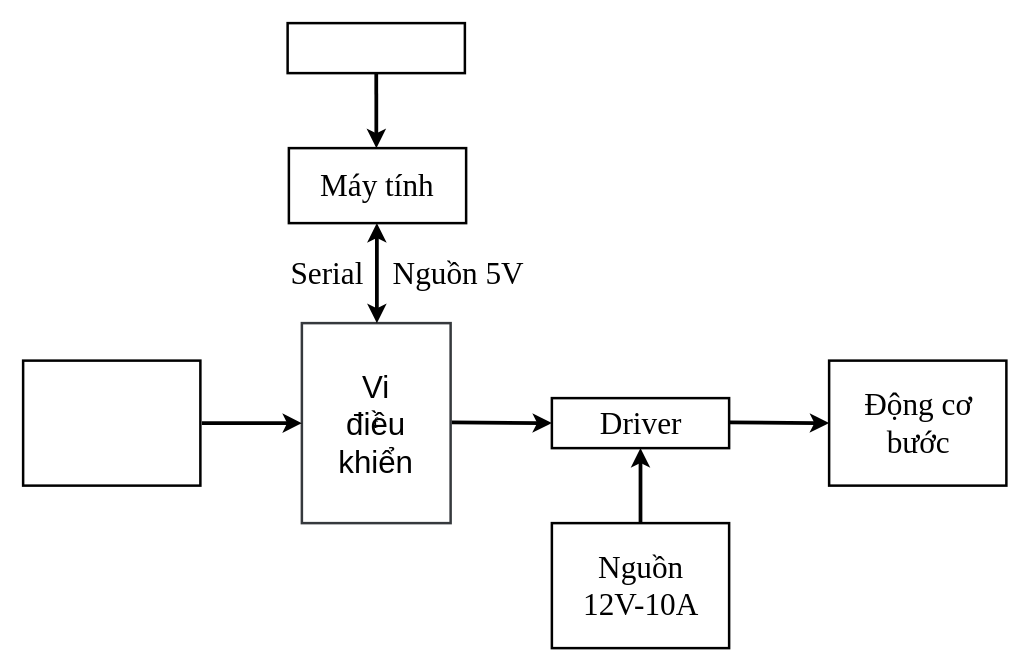
The diagram is 1029 pixels wide and 670 high, and some of its shapes have lost their labels. Here are the shapes that lost their labels. From the top down, the centre of each, then its label:
the point at 376,47: Camera
the point at 111,422: Công tắc hành trình
